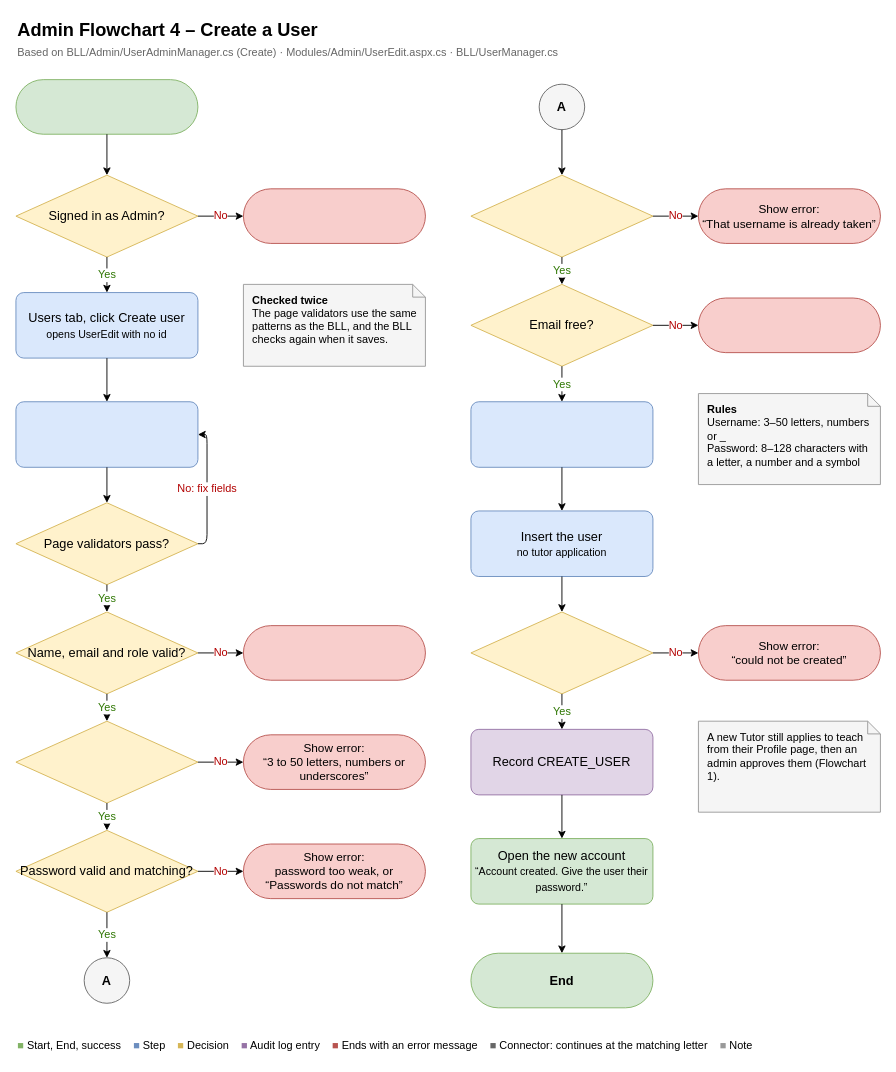
This 896x1072 diagram has some shape labels left out. Here are the shapes that lost their labels. From the top down, the centre of each, then its label:
At point 106,106: "Start".
At point 334,215: "Access denied redirected away from the page".
At point 561,215: "Username free?".
At point 789,325: "Show error: “That email is already registered”".
At point 106,434: "Fill in the form, click Create user name · username · email · role · password ×2".
At point 561,434: "Hash the password, set status Active".
At point 334,652: "Show error: missing field, bad name or email, no role".
At point 561,652: "Insert succeeded?".
At point 106,761: "Username format OK?".
